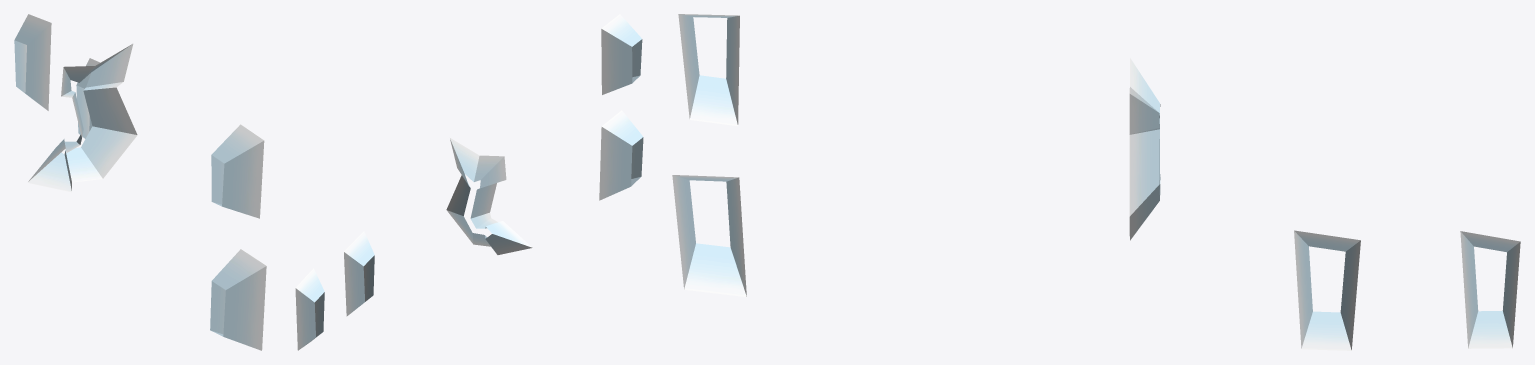
The model's file is Hecks_Kitchen_Alleyway_ShineFX_variant1.fbx.
3 views of the same model, side by side, from view 1: azimuth 30°, elevation 25°; view 2: azimuth 150°, elevation 25°; view 3: azimuth 270°, elevation 25° (orthographic). The views are drawn at different scales.
Parts seen in each view (by area): view 1: Hecks_Kitchen_Alleyway_ShineFX_variant1; view 2: Hecks_Kitchen_Alleyway_ShineFX_variant1; view 3: Hecks_Kitchen_Alleyway_ShineFX_variant1.
Boxes of the visible parts, x1=… form: Hecks_Kitchen_Alleyway_ShineFX_variant1: x1=14, y1=14, x2=266, y2=350; Hecks_Kitchen_Alleyway_ShineFX_variant1: x1=295, y1=14, x2=643, y2=350; Hecks_Kitchen_Alleyway_ShineFX_variant1: x1=672, y1=14, x2=1520, y2=350.
Size of the model in its own units: 10.62 by 14.63 by 39.71.
Materials: 1 (1 with a texture image).
